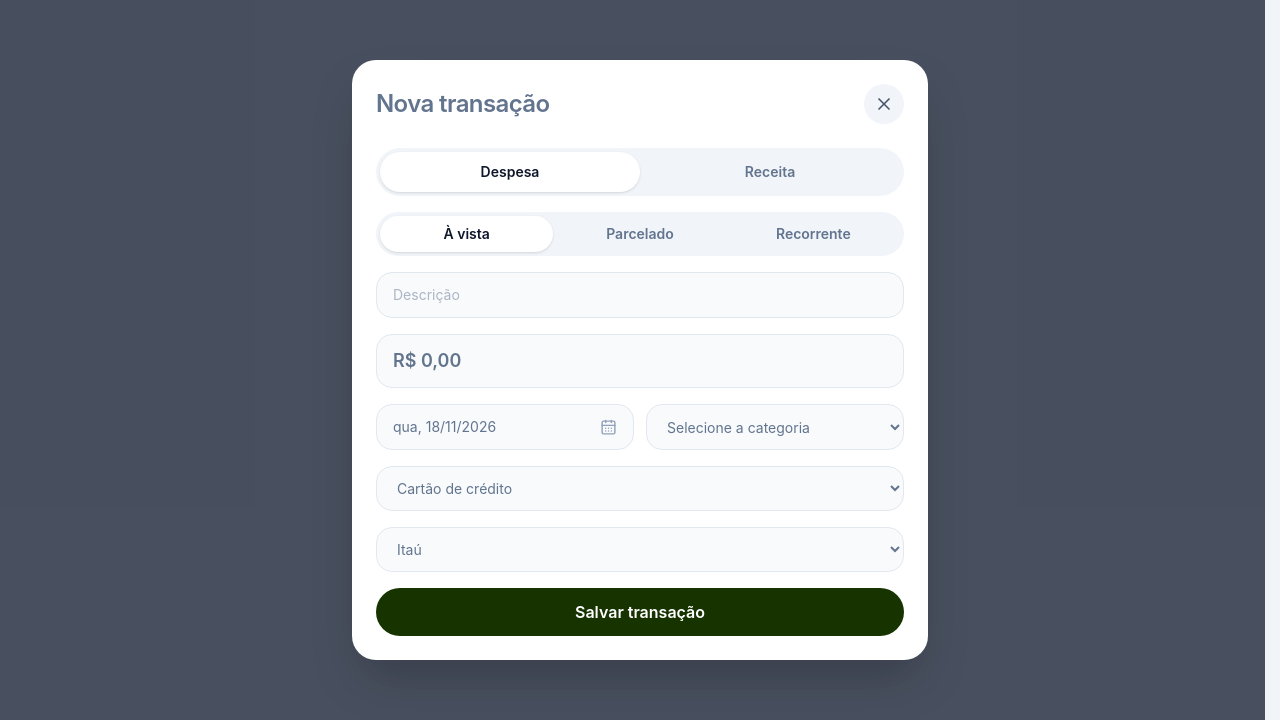
Test: TransactionModal › cartão, parcelas e recorrência › receita não oferece Parcelado
The image size is (1280, 720).
Expected: the button "Parcelado" is shown, x1=553 y1=216 x2=727 y2=252
Click the button "Receita" at (770, 172), box x1=640 y1=152 x2=900 y2=192
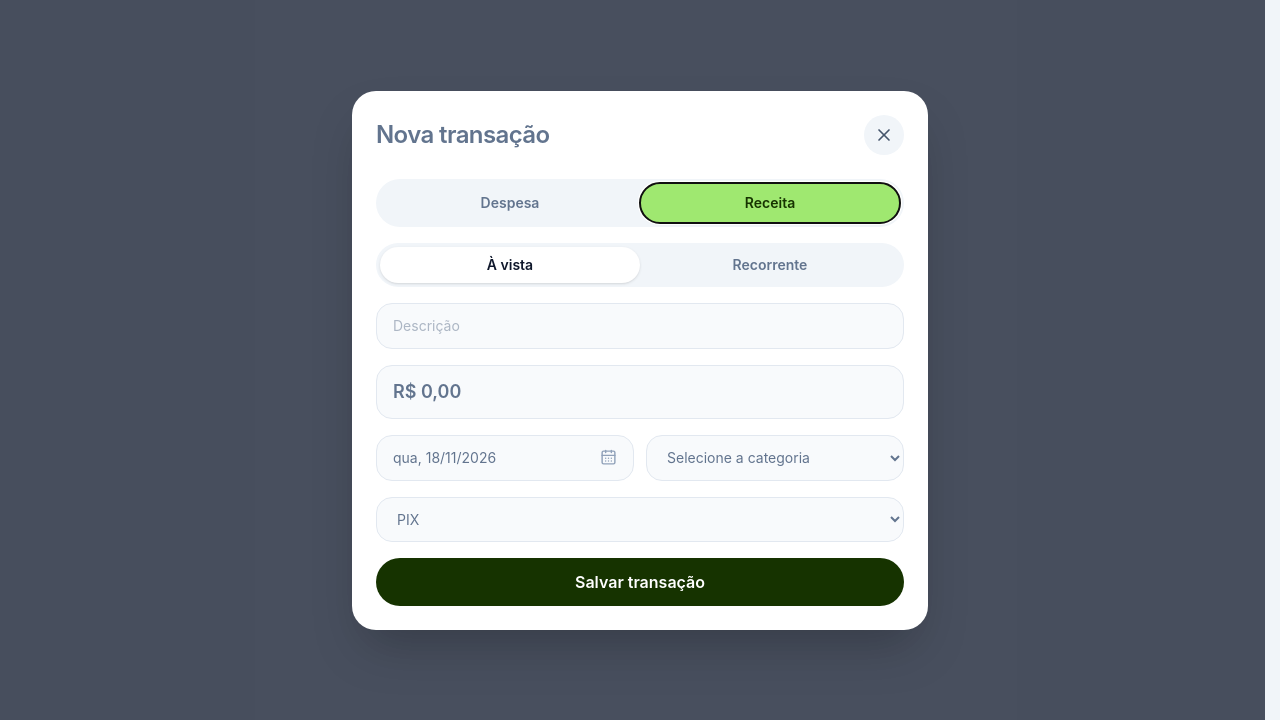
Now the button "Parcelado" is gone
